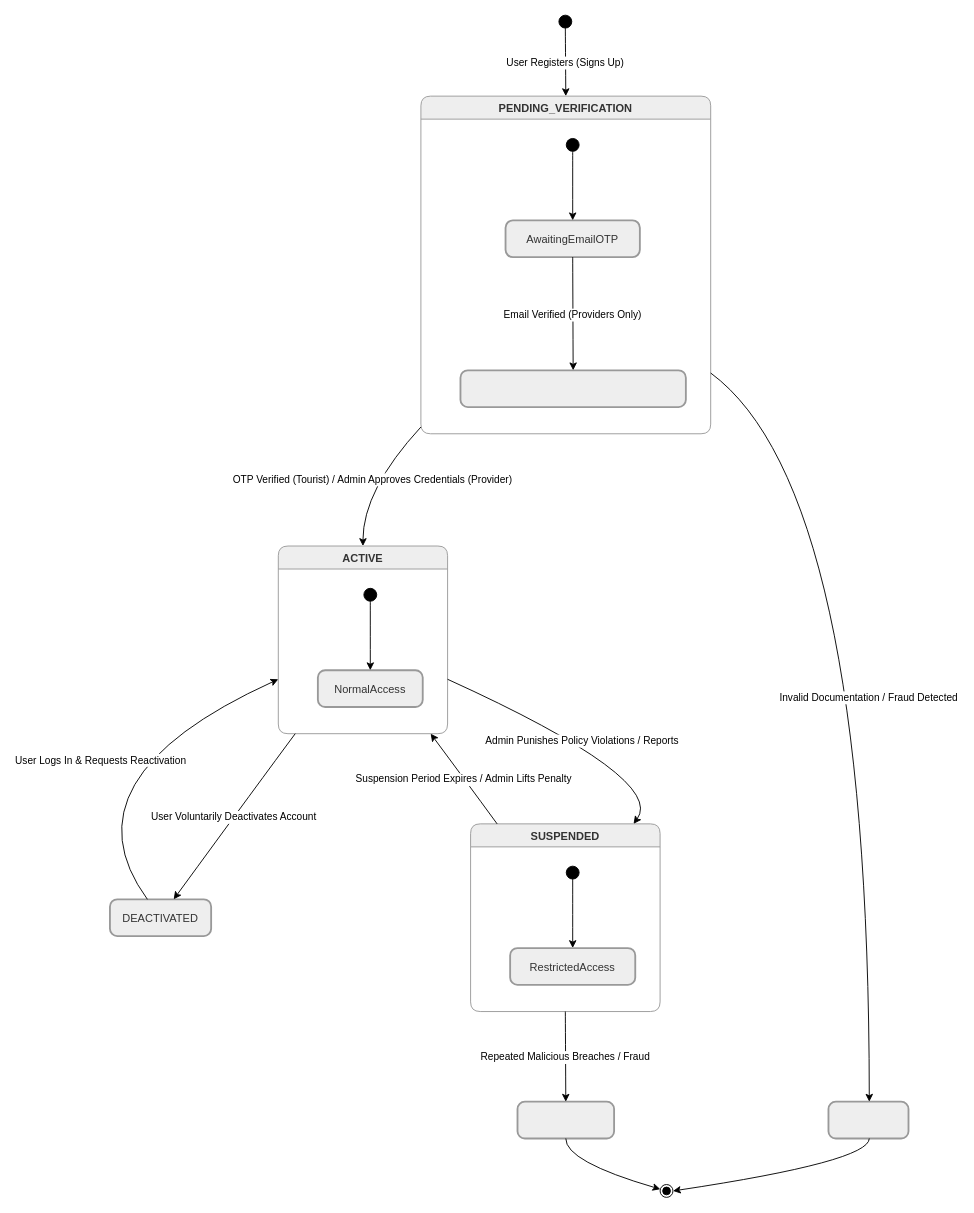
Image size: 974x1213. Some labels were removed from this diagram. The shapes that lost their labels are listed below. From the top down, each one's centre as x and y in pixels, then its label:
point (572, 388): AwaitingAdminDocumentReview
point (565, 1119): TERMINATED
point (868, 1119): REJECTED
